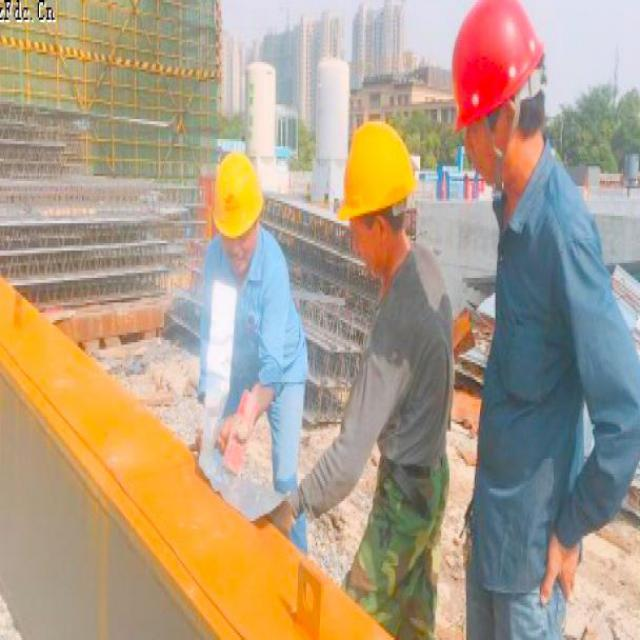helmet: (324, 114, 428, 266), (208, 134, 268, 276)
